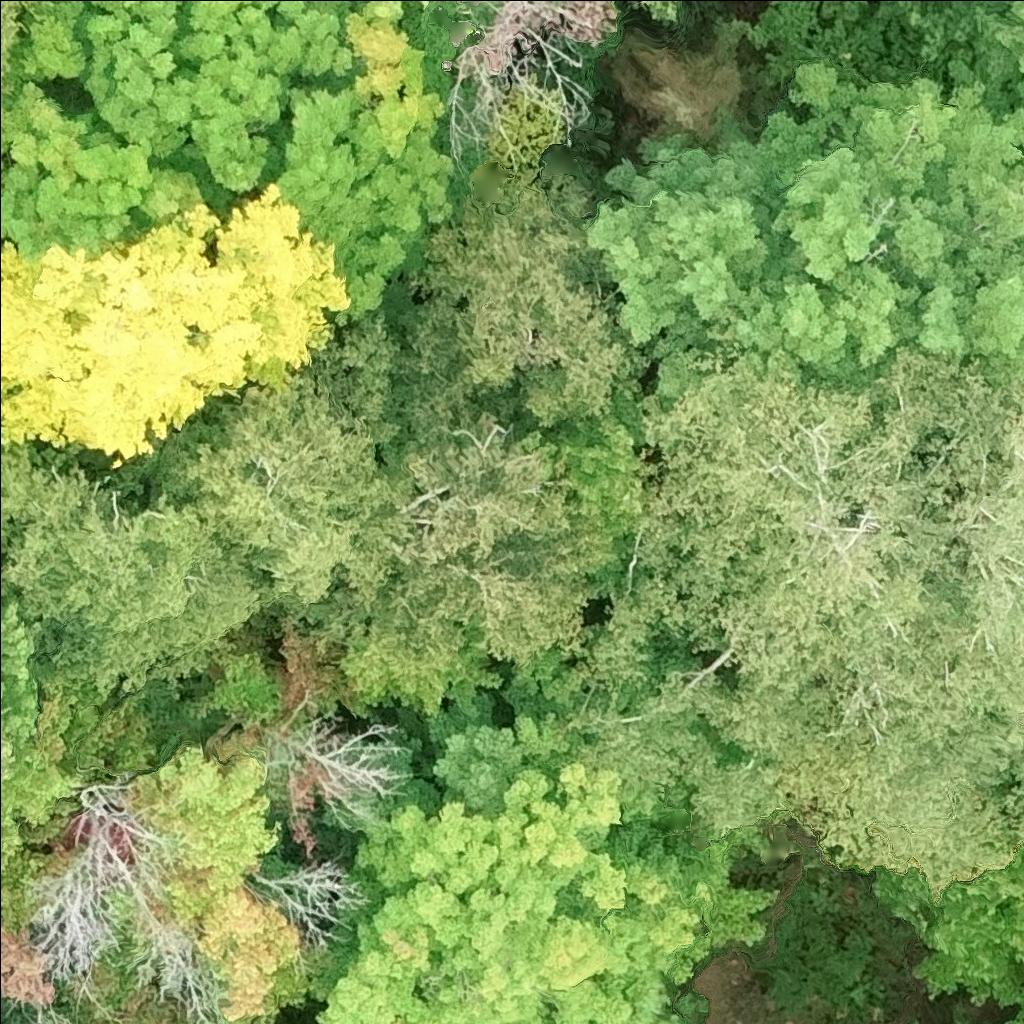crown: (562, 327, 1023, 900), (307, 649, 781, 1023), (0, 0, 468, 343), (0, 179, 350, 472), (297, 410, 607, 706), (375, 164, 659, 450), (147, 314, 415, 608), (758, 59, 969, 386), (0, 446, 260, 704), (583, 103, 807, 374), (125, 740, 327, 1023), (0, 592, 165, 885), (920, 52, 1023, 379), (869, 847, 1023, 1009), (738, 0, 890, 93), (866, 0, 968, 93), (364, 0, 459, 90), (943, 0, 1023, 102), (0, 0, 43, 93), (1002, 994, 1023, 1023), (0, 450, 10, 456)
